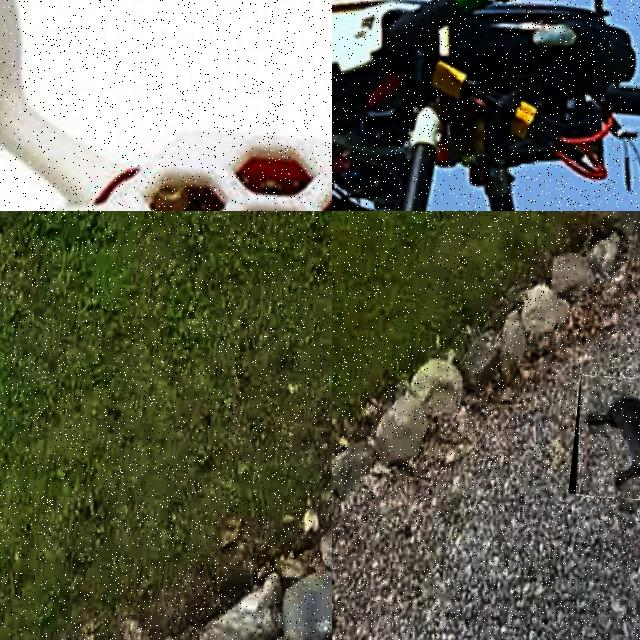0: (568, 371, 640, 506)
drone: (0, 0, 332, 211), (332, 0, 640, 211)
